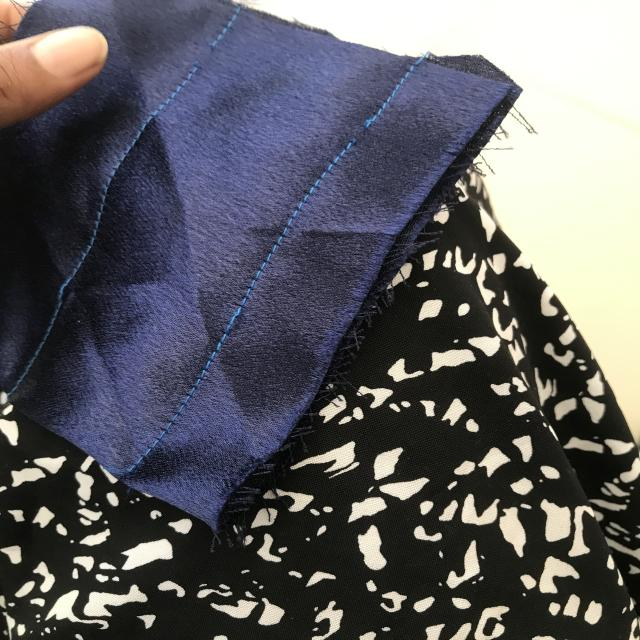broken: (339, 118, 383, 156), (190, 34, 220, 84)
skip: (206, 294, 262, 346), (45, 272, 81, 311)
